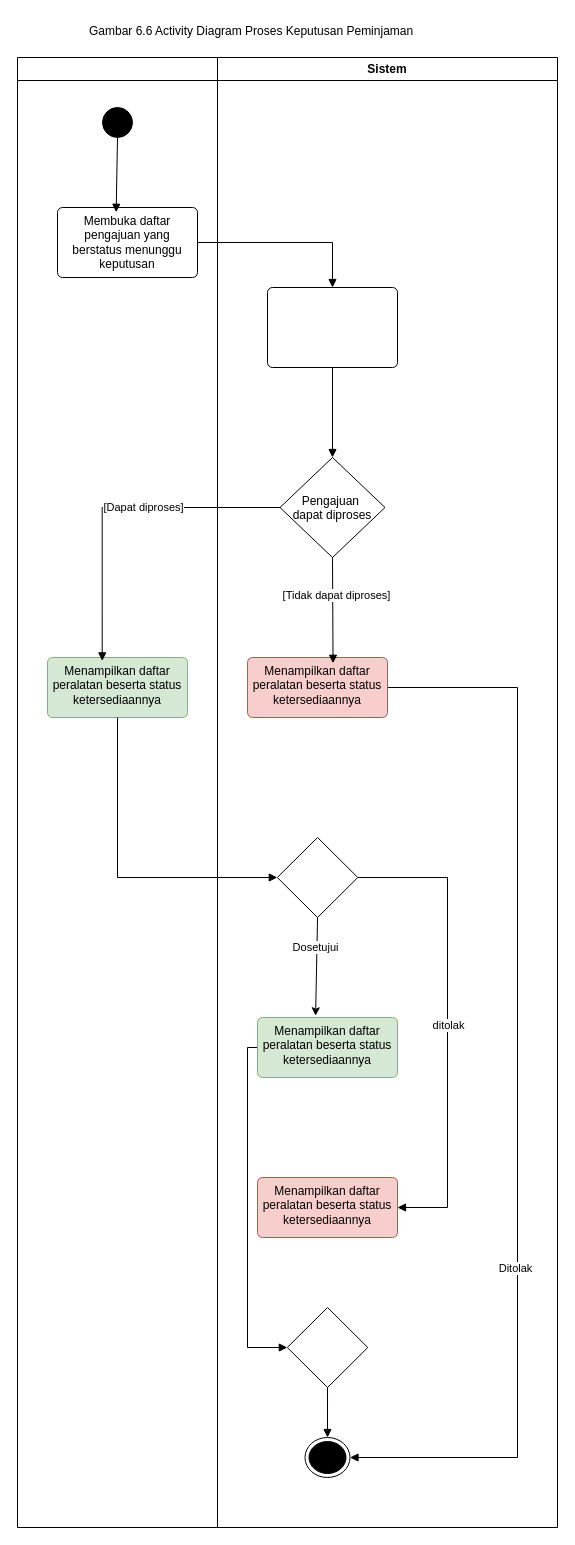
The diagram is 575 pixels wide and 1545 high, and some of its shapes have lost their labels. Here are the shapes that lost their labels. From the top down, the box of each, then its label:
(266, 286, 398, 368): Menampilkan daftar pengajuan yang berstatus menunggu keputusan
(16, 56, 218, 1528): Petugas Laboratorium
(276, 836, 358, 918): Pengajuan disetujui?
